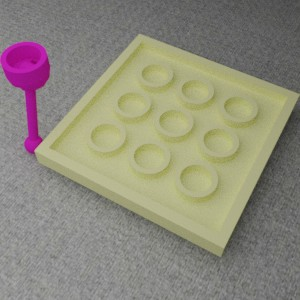4592c02: (0, 41, 50, 153)
6179: (34, 33, 300, 257)
